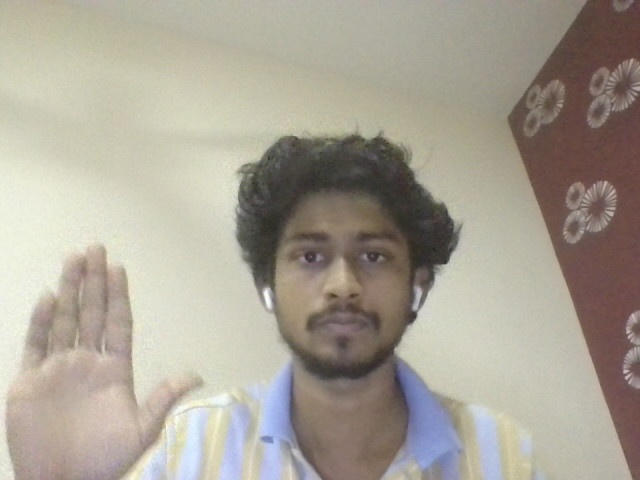hello: (13, 241, 209, 480)
